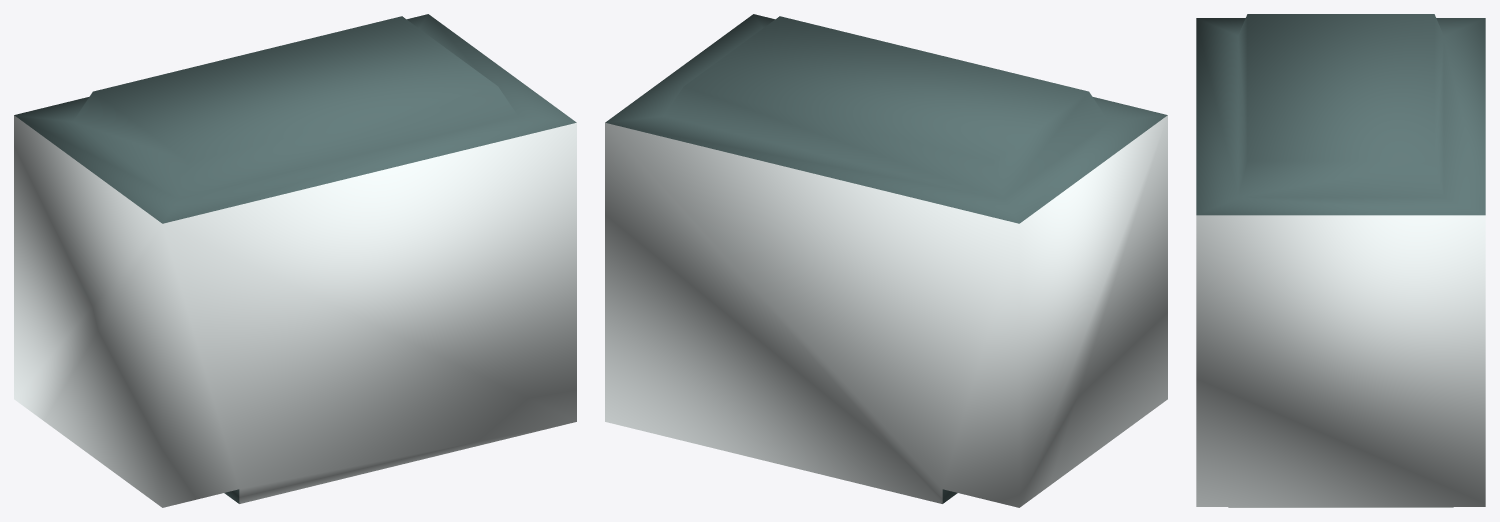
The model's file is kitchenMicrowave.obj.
3 views of the same model, side by side, from view 1: azimuth 30°, elevation 25°; view 2: azimuth 150°, elevation 25°; view 3: azimuth 270°, elevation 25° (orthographic). The views are drawn at different scales.
Visible parts, largest first — view 1: kitchenMicrowave; view 2: kitchenMicrowave; view 3: kitchenMicrowave.
Boxes of the visible parts, bbox=[...] form: kitchenMicrowave: bbox=[14, 14, 576, 507]; kitchenMicrowave: bbox=[605, 14, 1167, 507]; kitchenMicrowave: bbox=[1196, 14, 1485, 507].
Bounding box in the file's own units: 0.29 × 0.23 × 0.18.
